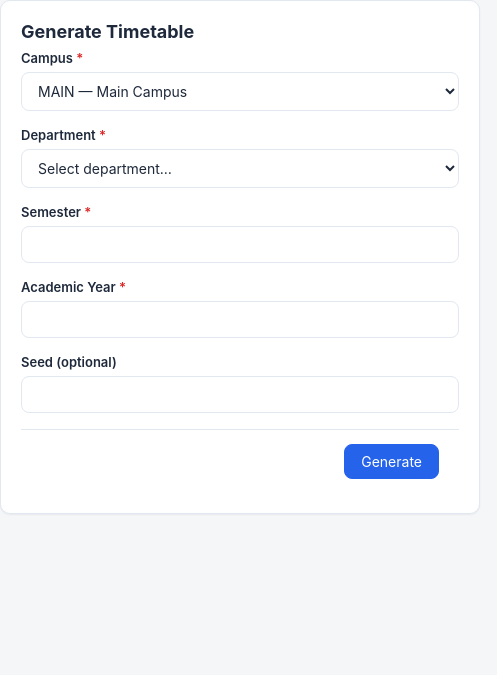
Test: GenerateForm › explains which setup checks failed when generation cannot start
The image size is (497, 675).
Step 1. Select "CSE — Computer Science" in the dropdown labelled "Department" → (240, 168), box [21,149,459,188]
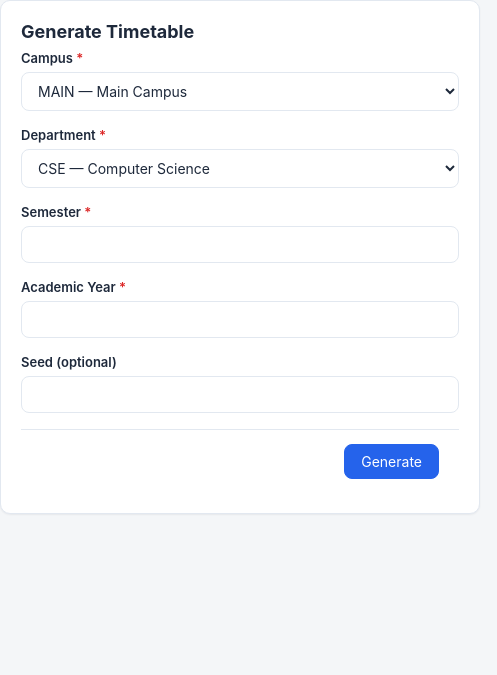
Step 2. Type "Odd" into the field labelled "Semester *" → (240, 244), box [21,226,459,263]
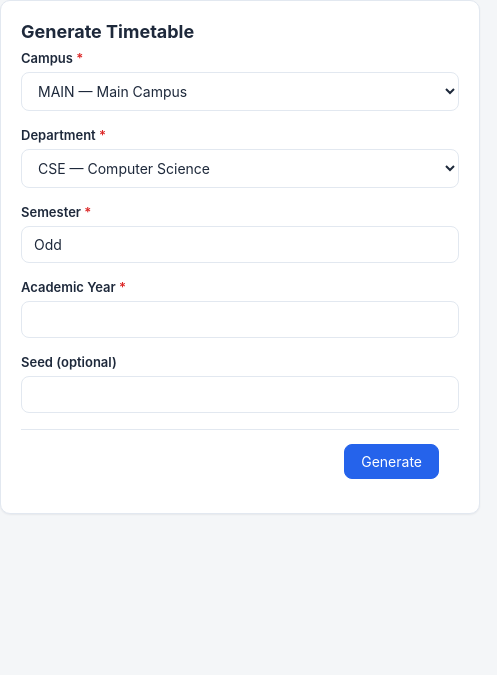
Step 3. Type "2019" into the field labelled "Academic Year *" → (240, 320), box [21,301,459,338]
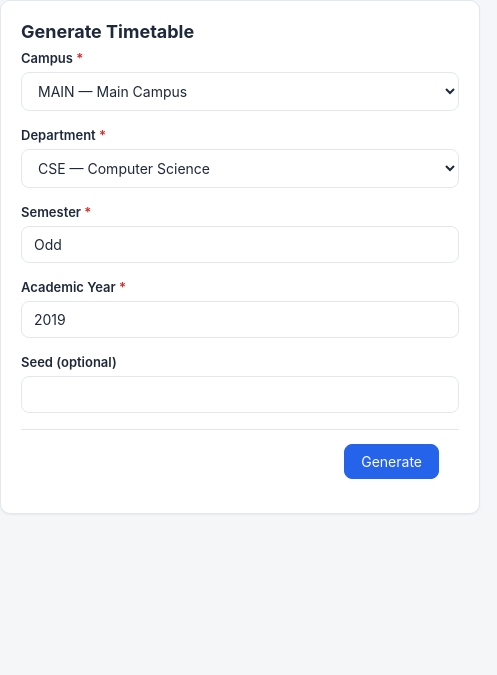
Step 4. Click the button "Generate" → (392, 462), box [344,444,439,479]
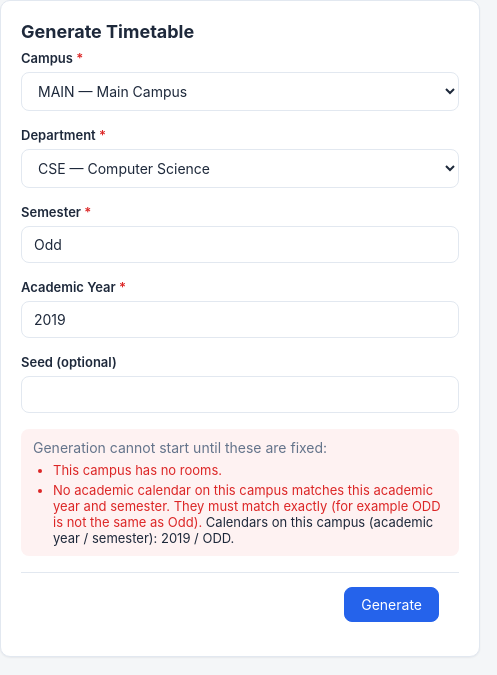
Check: the text "Generation cannot start until these are fixed:" is shown, box [33,439,327,456]
Check: the list item "This campus has no rooms." is shown, box [53,462,222,478]
Check: the text "Calendars on this campus (academic year / semester): 2019 / ODD" is shown, box [53,514,433,546]
